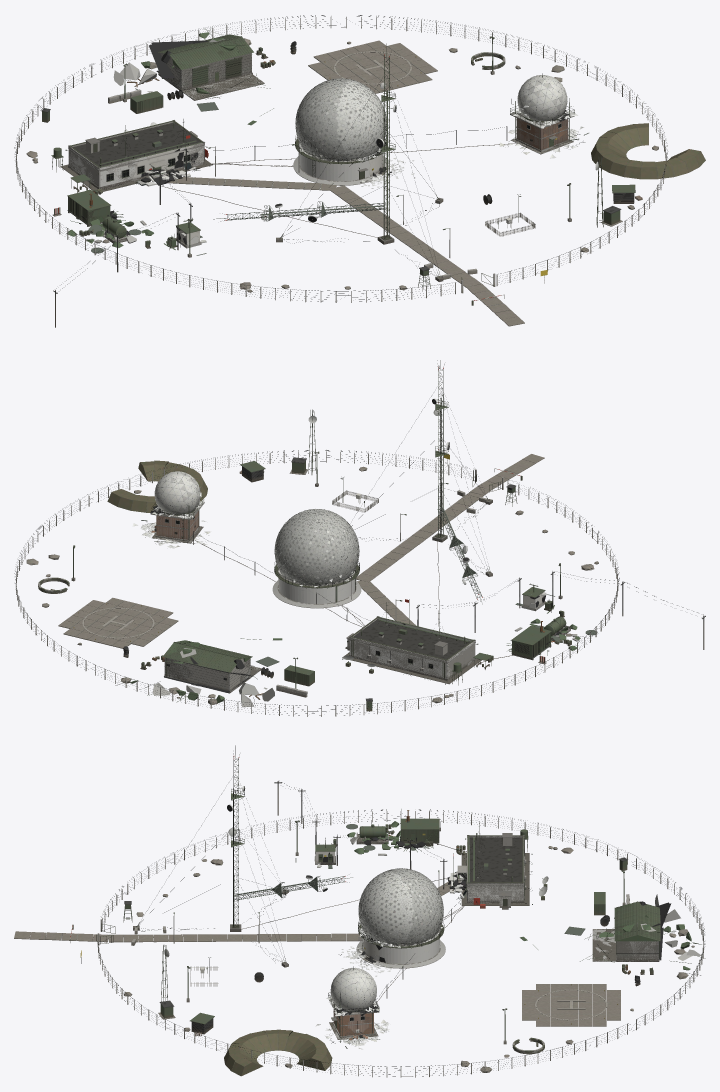
The model's file is site_radar.glb.
3 renders of one model, top to bottom at view 1: azimuth 30°, elevation 25°; view 2: azimuth 150°, elevation 25°; view 3: azimuth 270°, elevation 25°, orthographic. The views are drawn at different scales.
Parts seen in each view (by area): view 1: deco_site|R_A, deco_props|R_A, b_dome1|R_A, b_house|R_A, b_garage|R_A, b_dome2|R_A, b_garage_ruin|R_B, b_dome1_ruin|R_B, b_house_ruin|R_B, b_mast|R_A, b_dome2_ruin|R_B, b_mast_ruin|R_B (+2 smaller); view 2: deco_site|R_A, deco_props|R_A, b_dome1|R_A, b_house|R_A, b_garage|R_A, b_dome2|R_A, b_garage_ruin|R_B, b_dome1_ruin|R_B, b_house_ruin|R_B, b_mast|R_A, b_gen|R_A, b_dome2_ruin|R_B (+1 smaller); view 3: deco_site|R_A, deco_props|R_A, b_dome1|R_A, b_house|R_A, b_garage|R_A, b_dome2|R_A, b_garage_ruin|R_B, b_dome1_ruin|R_B, b_dome2_ruin|R_B, b_house_ruin|R_B, b_mast|R_A, b_gen|R_A (+2 smaller).
Boxes of the visible parts, x1,y1,x2,y2 form: deco_site|R_A: (14,15,667,326); deco_props|R_A: (26,38,705,327); b_dome1|R_A: (292,78,386,185); b_house|R_A: (60,119,212,192); b_garage|R_A: (157,34,264,100); b_dome2|R_A: (510,73,574,154); b_garage_ruin|R_B: (113,28,273,125); b_dome1_ruin|R_B: (293,137,415,188); b_house_ruin|R_B: (61,122,210,189); b_mast|R_A: (276,43,443,281); b_dome2_ruin|R_B: (499,100,588,158); b_mast_ruin|R_B: (213,201,439,275); deco_site|R_A: (14,450,619,716); deco_props|R_A: (26,409,705,711); b_dome1|R_A: (273,509,360,608); b_house|R_A: (342,602,481,684); b_garage|R_A: (162,640,261,693); b_dome2|R_A: (151,471,204,543); b_garage_ruin|R_B: (115,638,282,707); b_dome1_ruin|R_B: (272,566,361,608); b_house_ruin|R_B: (342,618,477,684); b_mast|R_A: (351,360,492,576); b_gen|R_A: (511,621,551,660); b_dome2_ruin|R_B: (132,487,210,548); deco_site|R_A: (14,809,704,1077); deco_props|R_A: (123,780,694,1076); b_dome1|R_A: (357,868,444,968); b_house|R_A: (457,822,529,909); b_garage|R_A: (592,901,660,961); b_dome2|R_A: (328,966,379,1039); b_garage_ruin|R_B: (520,894,705,975); b_dome1_ruin|R_B: (338,923,445,976); b_dome2_ruin|R_B: (315,997,389,1049); b_house_ruin|R_B: (446,836,532,907); b_mast|R_A: (133,745,288,967); b_gen|R_A: (400,810,439,846).
Size of the model in its own units: 145 by 49 by 146.
Materials: 18 (18 with a texture image).
